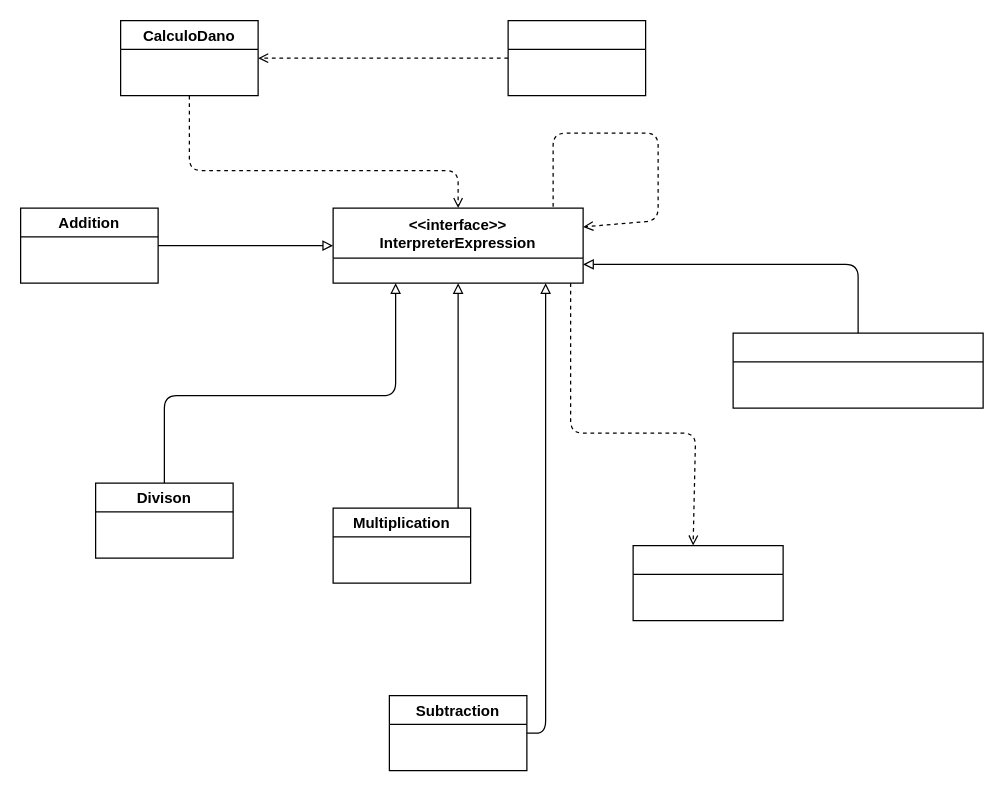
The diagram is 1004 pixels wide and 791 high, and some of its shapes have lost their labels. Here are the shapes that lost their labels. From the top down, the centre of each, then its label:
At point 576,57: "Player".
At point 857,370: "InterpreterArithmeticExpression".
At point 707,582: "Number".
